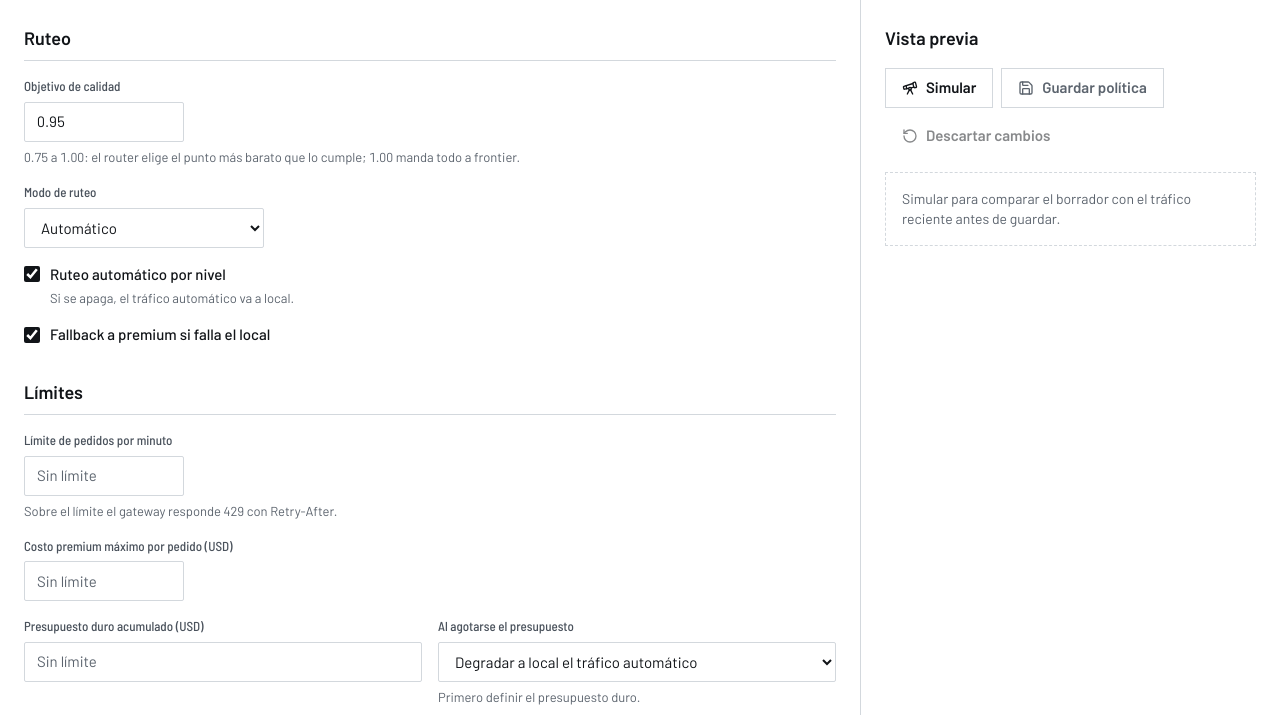
Test: policy-form › does not preview a routing quality target outside 0.75-1.00
Replace the text in the field labelled "Objetivo de calidad" with "0.2" at [104, 122], box top-left (24, 102), bottom-right (184, 142)
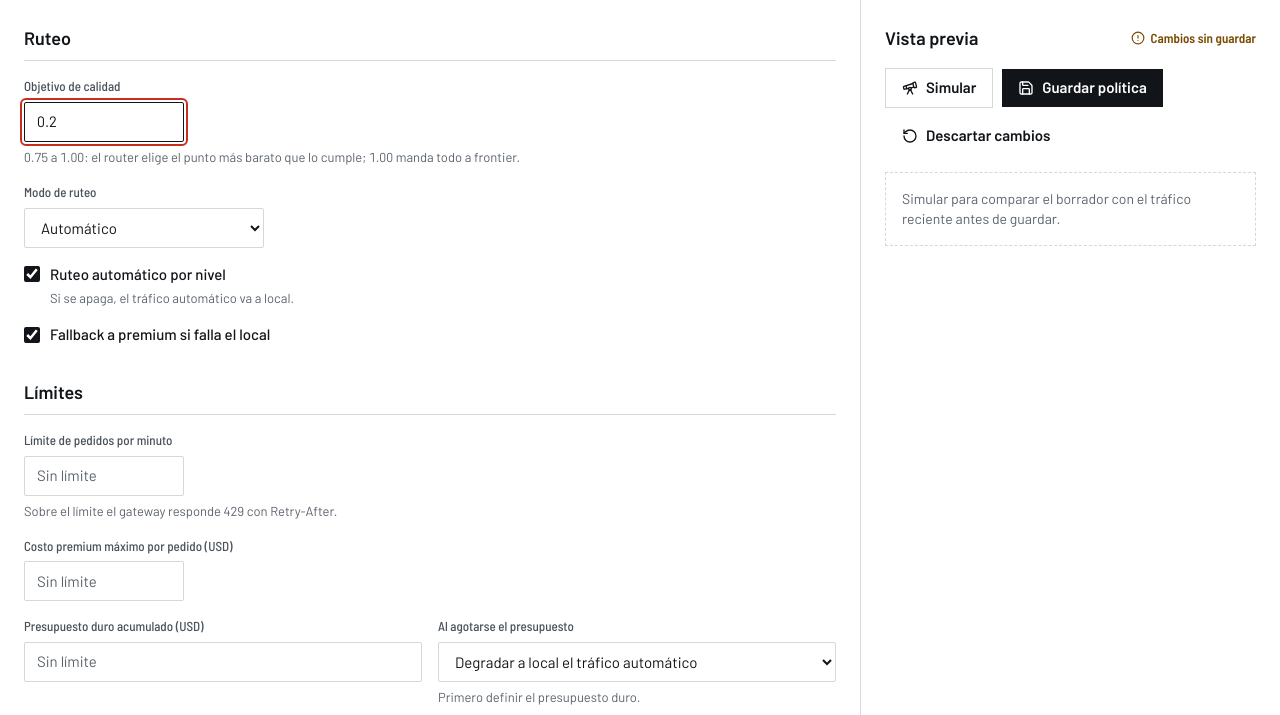
Click the button "Simular" at [939, 88], box top-left (885, 68), bottom-right (993, 108)
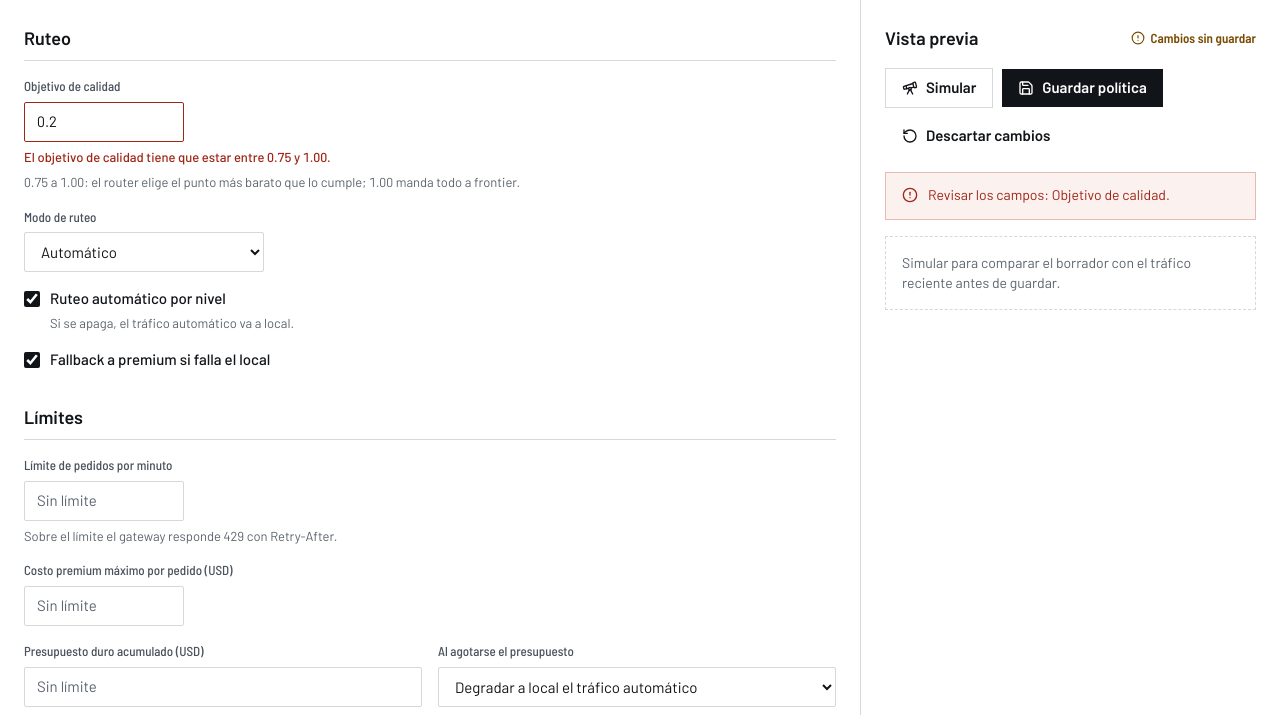
Expected: the text "El objetivo de calidad tiene que estar entre 0.75 y 1.00." is shown, top-left (24, 149), bottom-right (331, 165)
